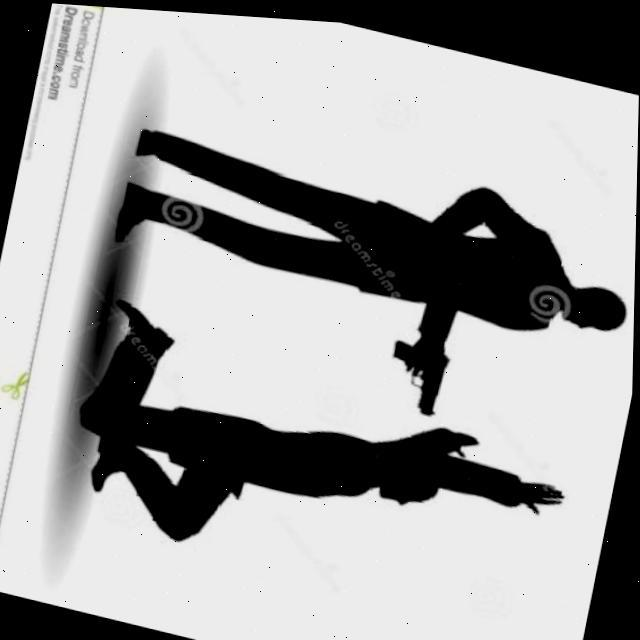gun: (384, 330, 454, 412)
